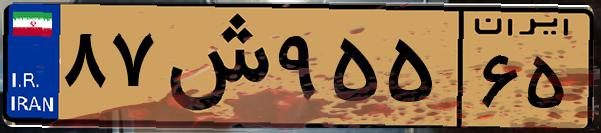5: (385, 28, 445, 110), (330, 28, 385, 110), (525, 38, 570, 115)
6: (475, 38, 525, 113)
7: (110, 28, 158, 98)
8: (57, 26, 110, 100)
9: (270, 28, 330, 110)
ش: (158, 12, 270, 120)
